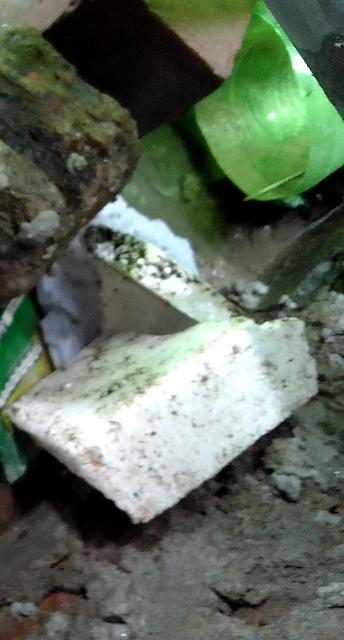cocksheet: (0, 219, 344, 583)
